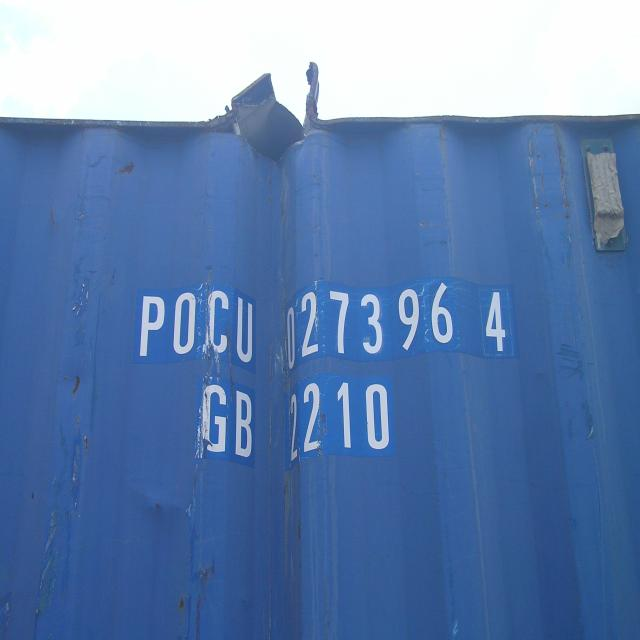hole: (201, 57, 341, 169)
